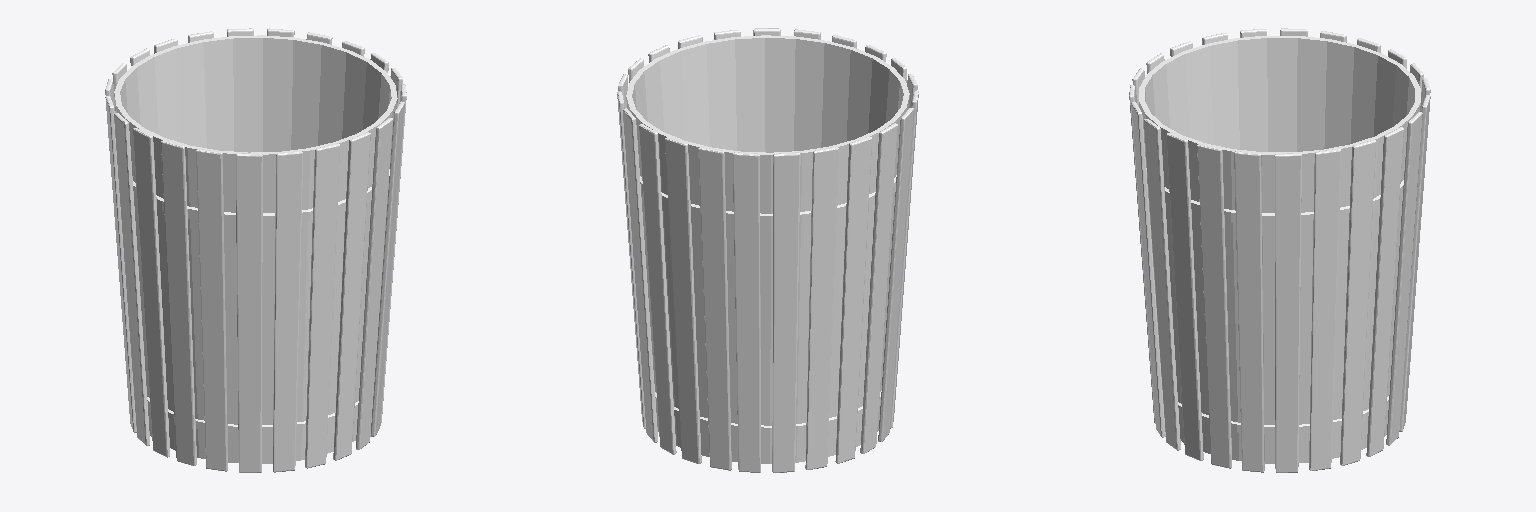
3 renders of one model, left to right at view 1: azimuth 30°, elevation 25°; view 2: azimuth 150°, elevation 25°; view 3: azimuth 270°, elevation 25°, orthographic.
Visible parts, largest first — view 1: trash:Box025; view 2: trash:Box025; view 3: trash:Box025.
Boxes of the visible parts, x1=… form: trash:Box025: x1=105, y1=28, x2=406, y2=472; trash:Box025: x1=617, y1=28, x2=918, y2=472; trash:Box025: x1=1129, y1=28, x2=1430, y2=472.
Bounding box in the file's own units: 0.5511 × 0.6625 × 0.5504.
Materials: 1 (1 with a texture image).